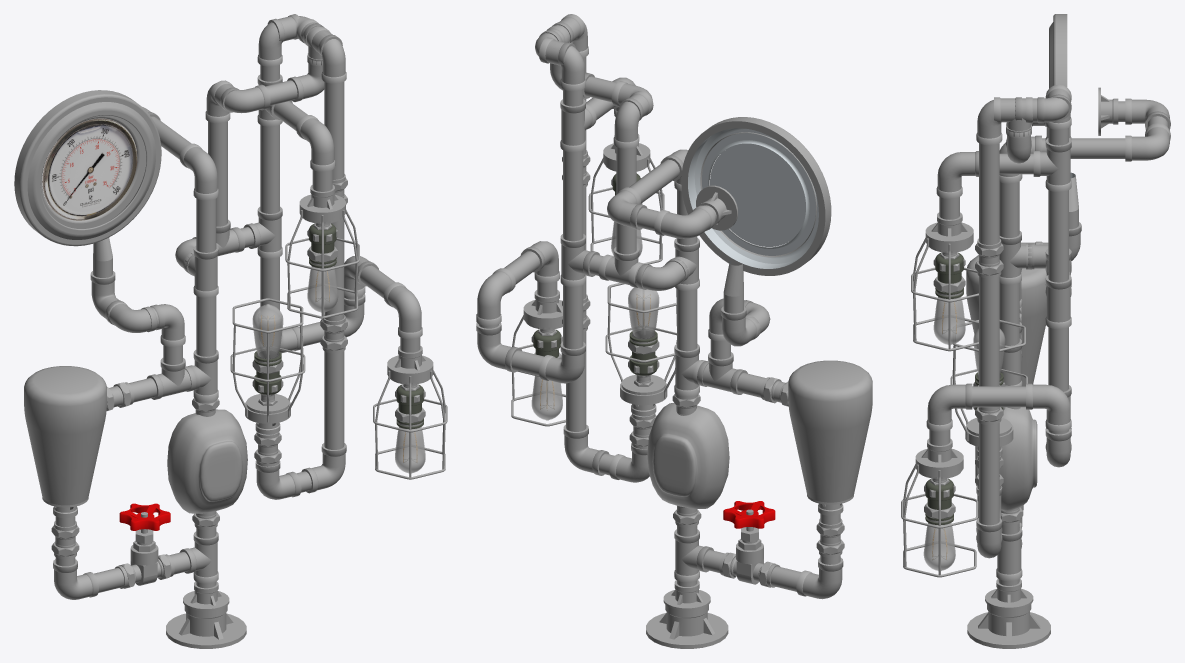
The model's file is steampunk_lamps.glb.
The picture shows the model from 3 angles, left to right: view 1: azimuth 30°, elevation 25°; view 2: azimuth 150°, elevation 25°; view 3: azimuth 270°, elevation 25°; orthographic projection. The views are drawn at different scales.
Visible parts, largest first — view 1: Material2 (×4), Material3; view 2: Material2 (×4), Material3; view 3: Material2 (×3).
Boxes of the visible parts, x1,y1,x2,y2 form: Material2 (×4): [14, 14, 447, 648]; Material3: [42, 118, 137, 220]; Material2 (×4): [476, 14, 872, 648]; Material3: [638, 128, 818, 416]; Material2 (×3): [901, 14, 1170, 648].
Bounding box in the file's own units: 54.68 × 77.92 × 32.14.
9 materials, 1 textured.
